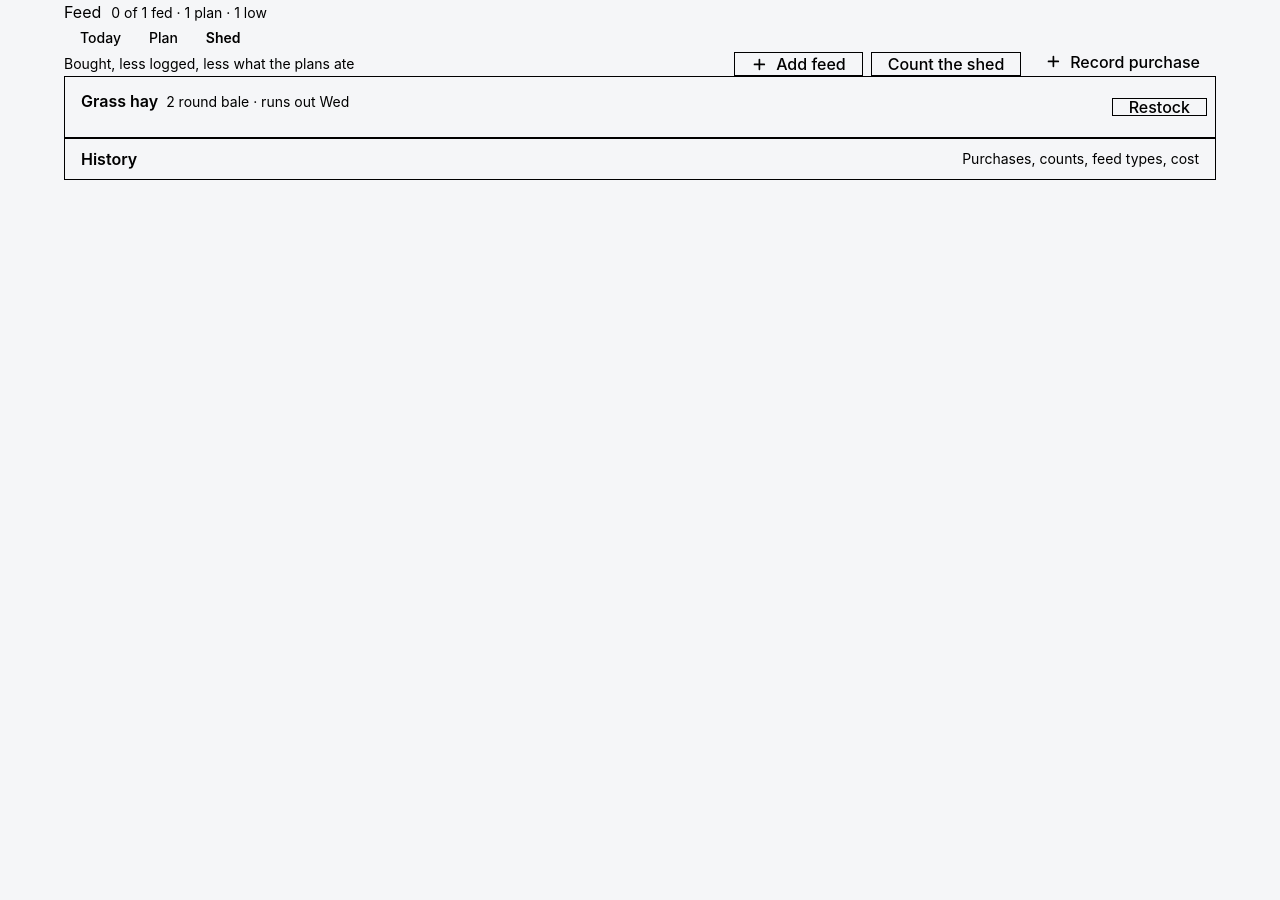
Test: Farm › Feed › Shed › says when a low feed runs out and restocks it with the purchase form prefilled
Expected: the text "2 round bale · runs out Wed" is shown, x1=166 y1=92 x2=349 y2=112
Step 1. Click the button with aria-label "Restock Grass hay" → [1159, 107], box x1=1112 y1=98 x2=1207 y2=116
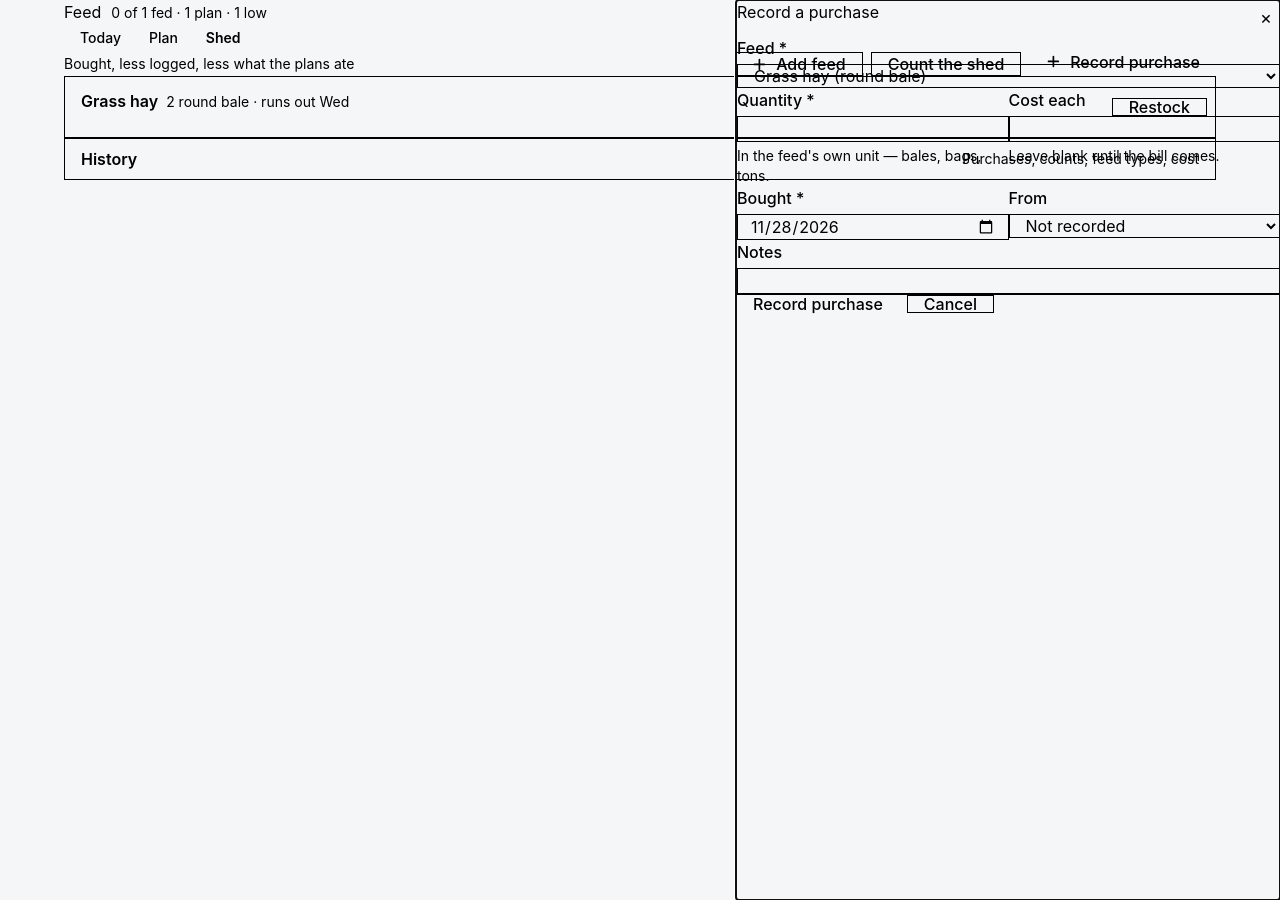
Result: the dropdown labelled "Feed *" shows "Grass hay (round bale)" at x1=737 y1=64 x2=1279 y2=88
